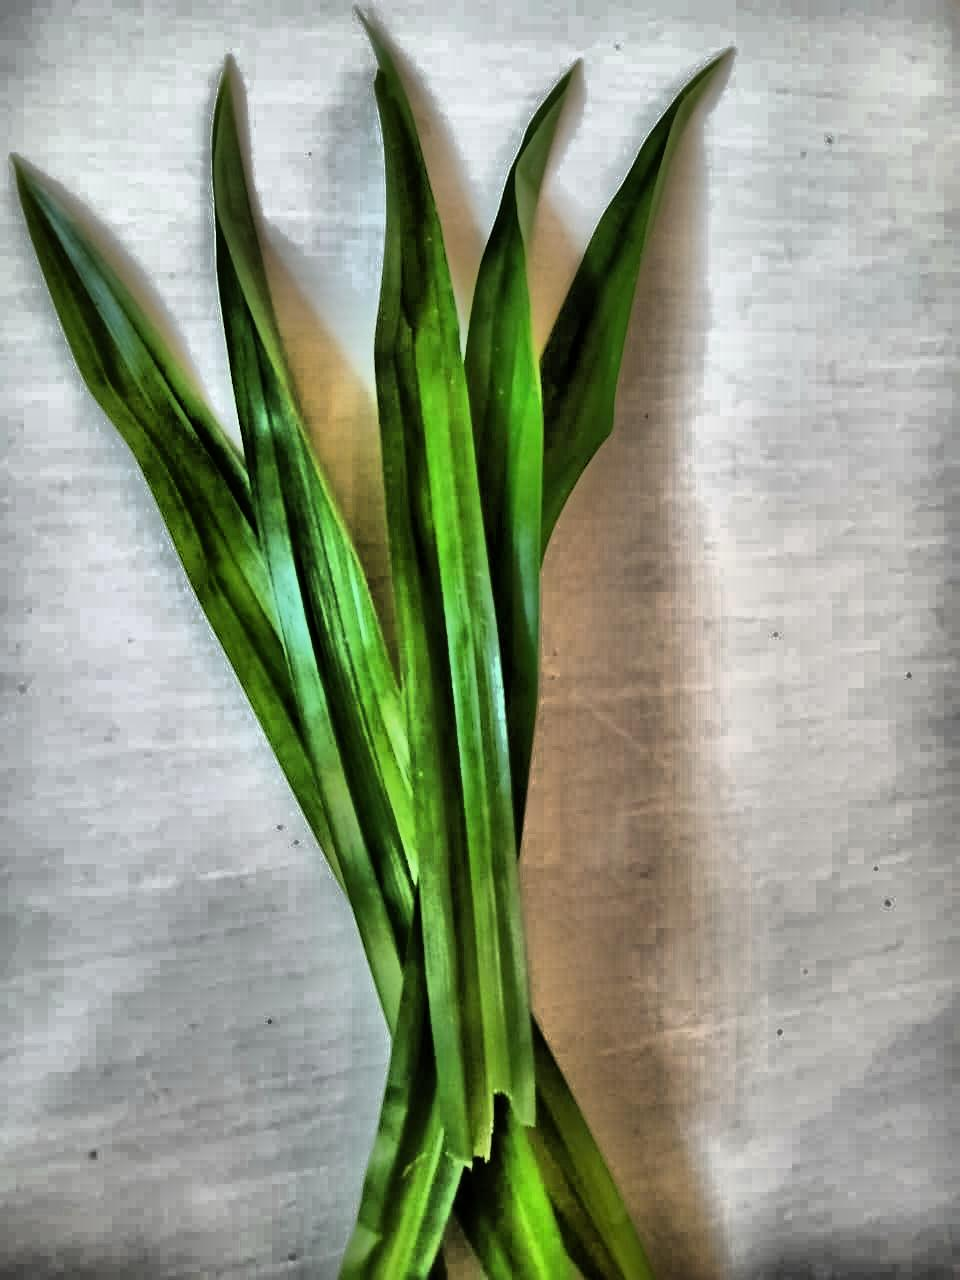daun pandan: (17, 27, 718, 1279)
